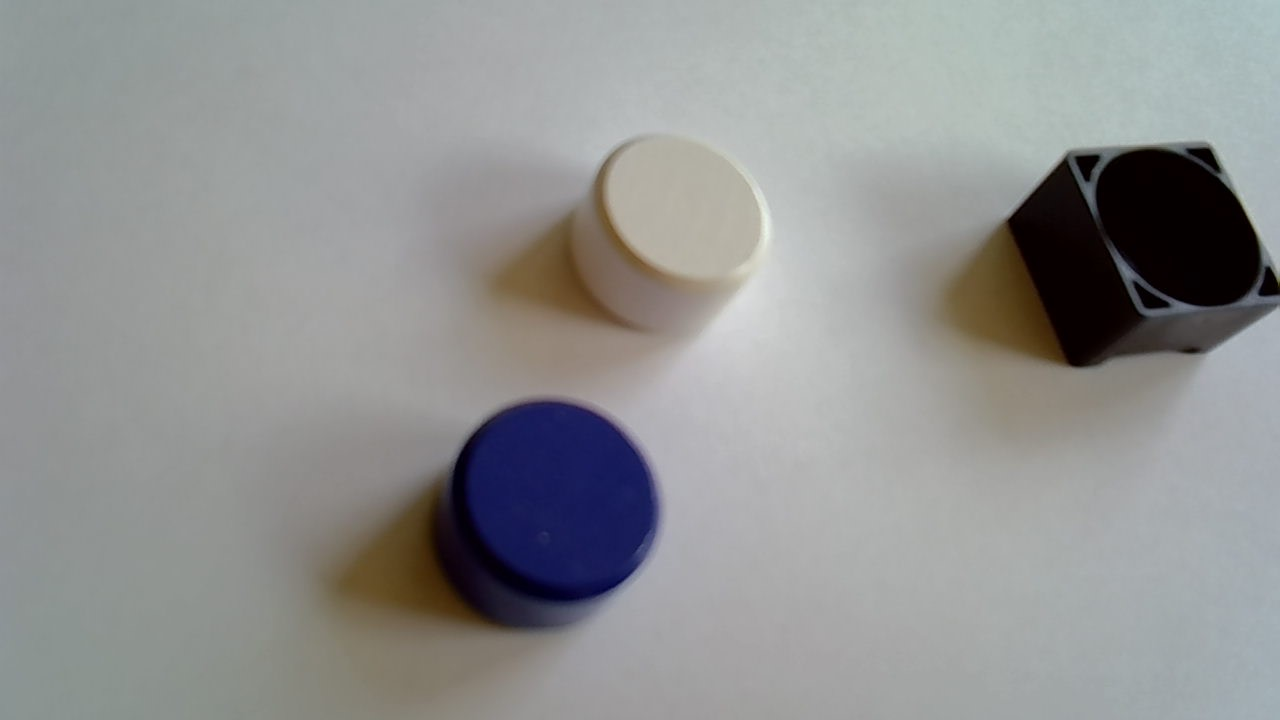Behaelter: (1006, 138, 1279, 370)
WerkStueck: (427, 398, 665, 636), (565, 130, 771, 336)
